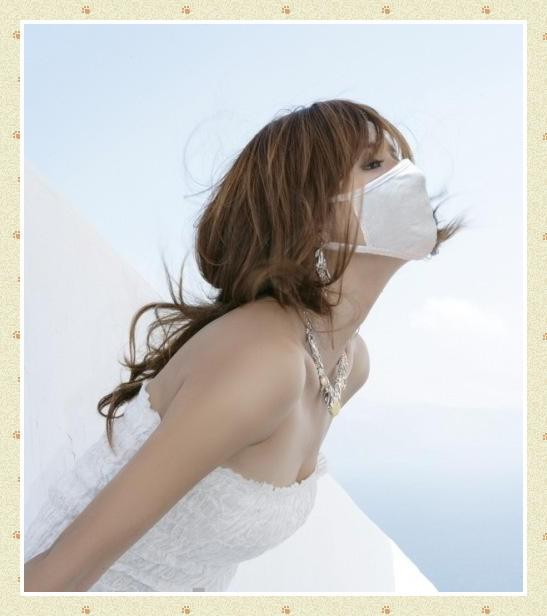OK: (323, 140, 443, 260)
